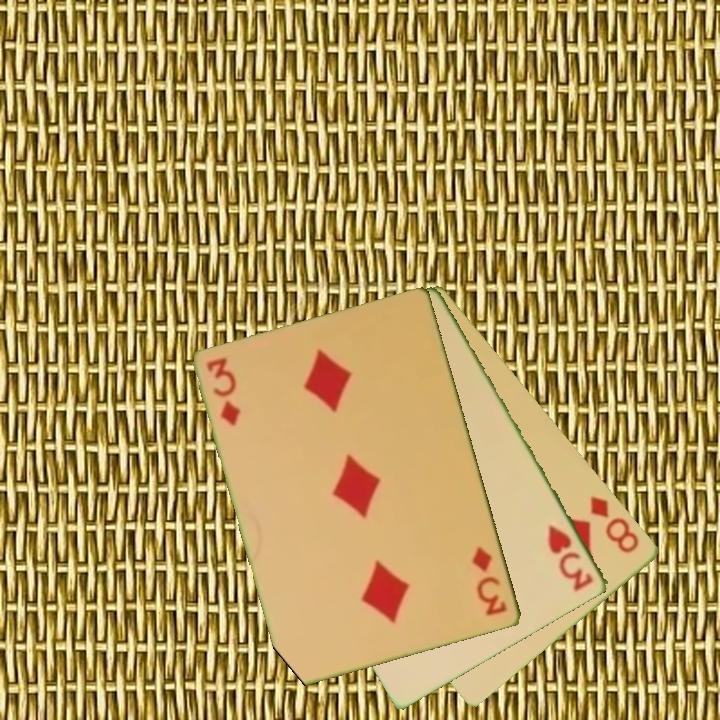3d: (469, 543, 510, 619), (203, 354, 244, 429)
3h: (544, 521, 597, 595)
8d: (587, 492, 643, 557)
